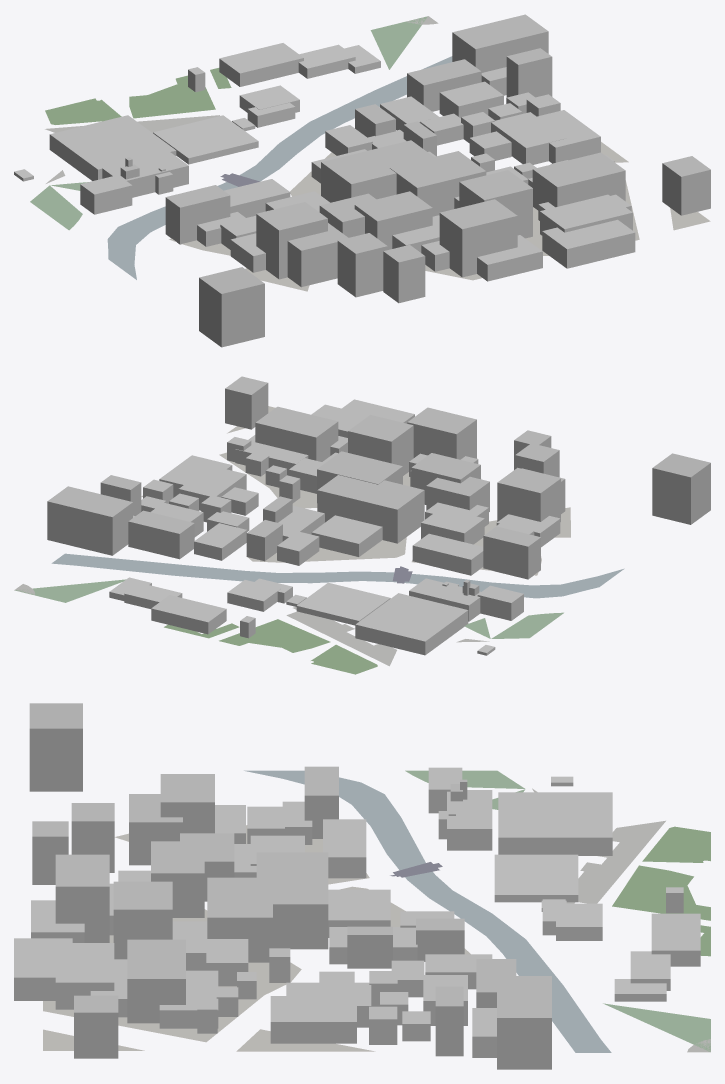
The model's file is 126_105_mid.glb.
3 renders of one model, top to bottom at view 1: azimuth 30°, elevation 25°; view 2: azimuth 150°, elevation 25°; view 3: azimuth 270°, elevation 25°, orthographic. The views are drawn at different scales.
Bounding box in the file's own units: 536 × 53.12 × 522.
